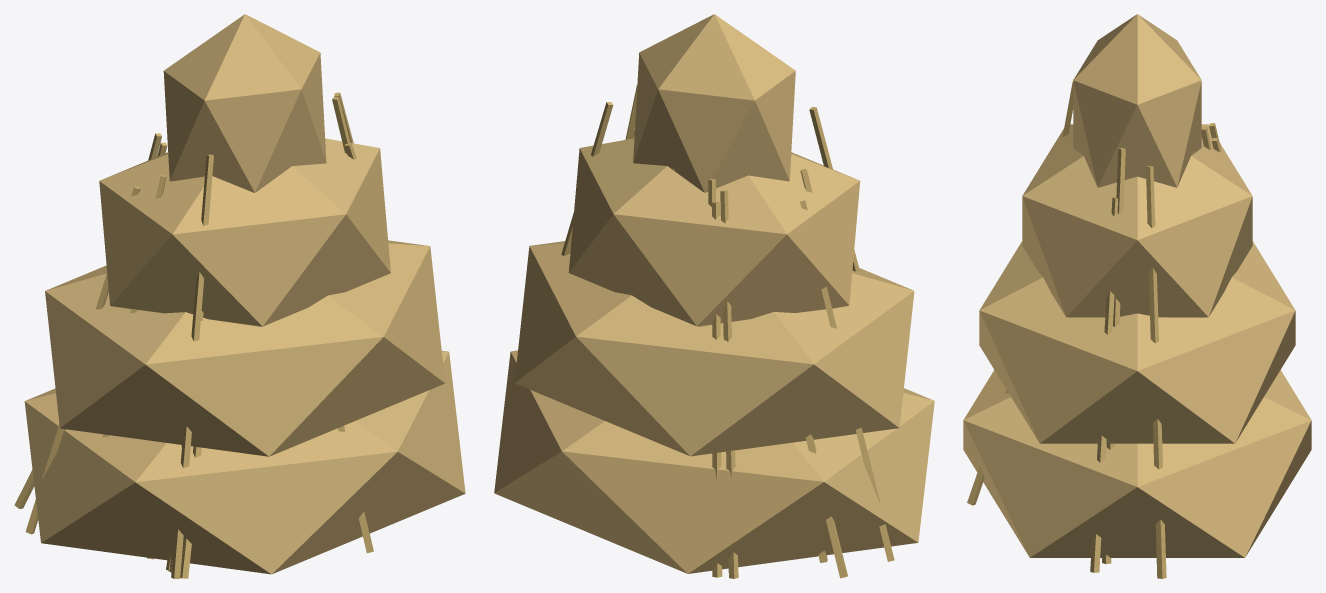
Rendered from haystack.glb.
The picture shows the model from 3 angles, left to right: view 1: azimuth 30°, elevation 25°; view 2: azimuth 150°, elevation 25°; view 3: azimuth 270°, elevation 25°; orthographic projection. The views are drawn at different scales.
Parts seen in each view (by area): view 1: haystack; view 2: haystack; view 3: haystack.
Boxes of the visible parts, left/top/right/bottom form: haystack: left=14, top=14, right=465, bottom=578; haystack: left=494, top=14, right=934, bottom=578; haystack: left=963, top=14, right=1311, bottom=578.
Bounding box in the file's own units: 1.16 × 1.46 × 0.8847.
